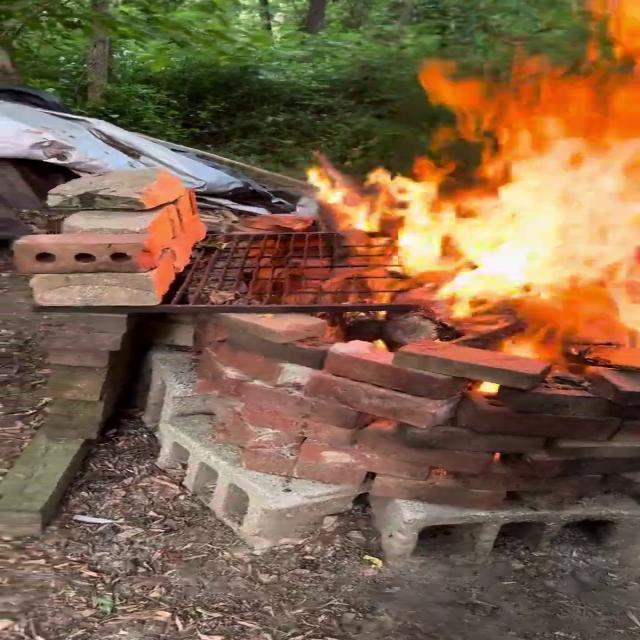Fire: (306, 1, 638, 318)
